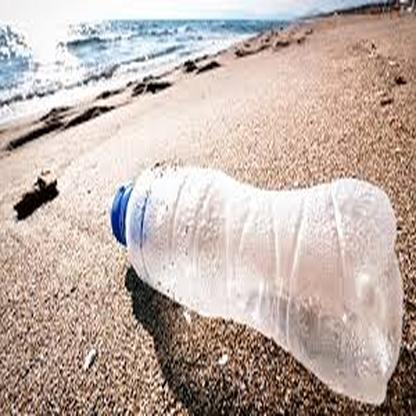plastic bottle: (108, 168, 404, 406)
